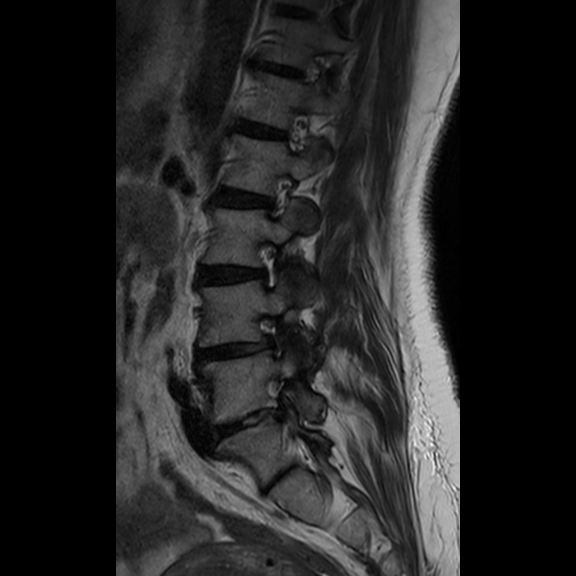LFS0: (255, 162, 306, 226), (271, 102, 324, 157)
LFS1: (244, 232, 293, 299)
LFS2: (240, 306, 301, 363)
